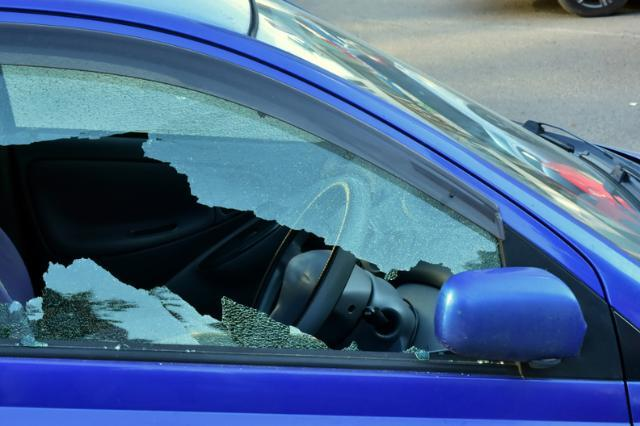Door: (8, 73, 414, 426)
